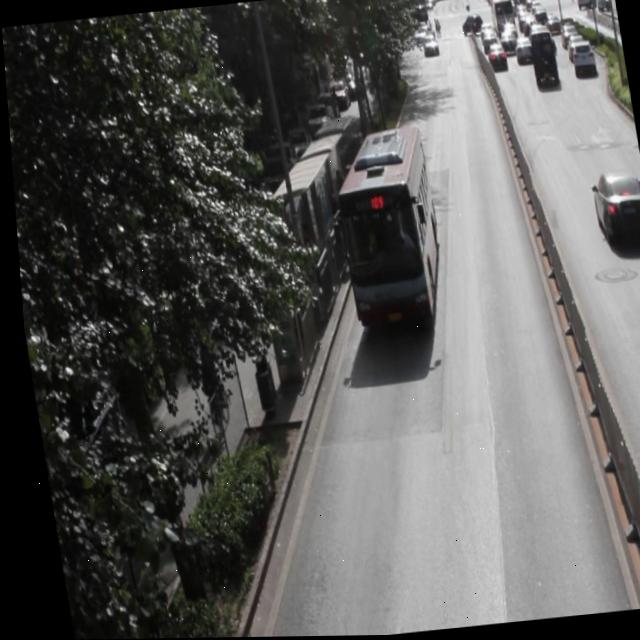car: (584, 167, 640, 247)
van: (324, 127, 443, 328)
